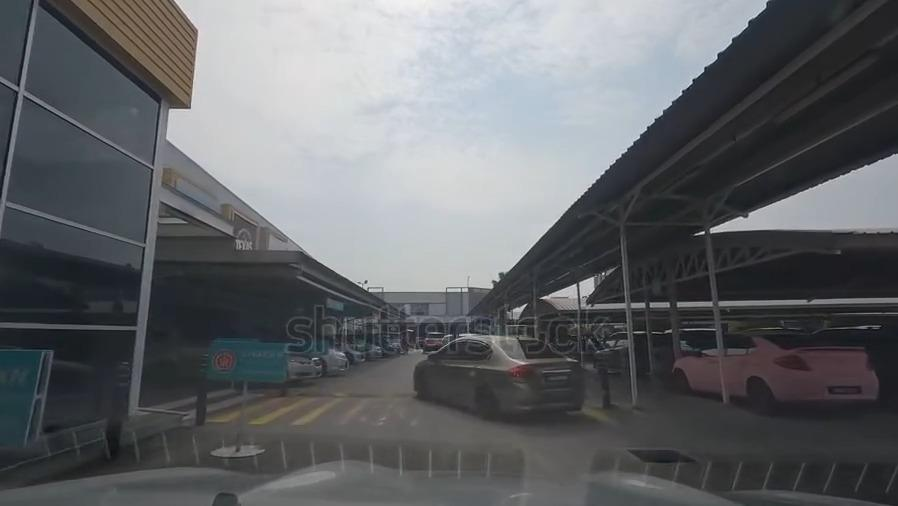car: (673, 334, 877, 406), (414, 339, 583, 408), (147, 336, 319, 381), (594, 332, 675, 371), (320, 347, 347, 373), (346, 342, 364, 362), (425, 331, 441, 349), (365, 342, 379, 357)
manhole: (627, 443, 694, 469)
pedestrian: (201, 403, 637, 428)
speedbump: (296, 389, 419, 399)
wheel: (148, 355, 176, 380), (476, 387, 497, 418), (416, 371, 428, 399)
